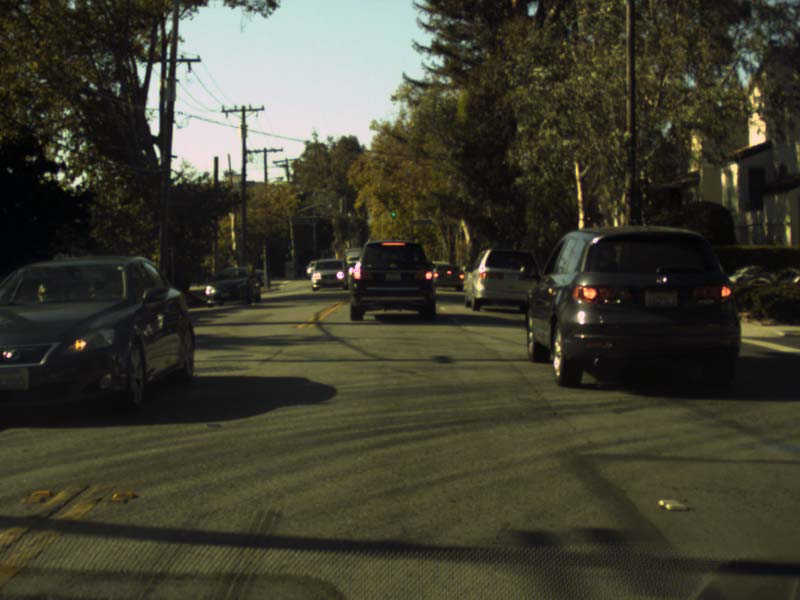Green: (390, 209, 395, 217)
